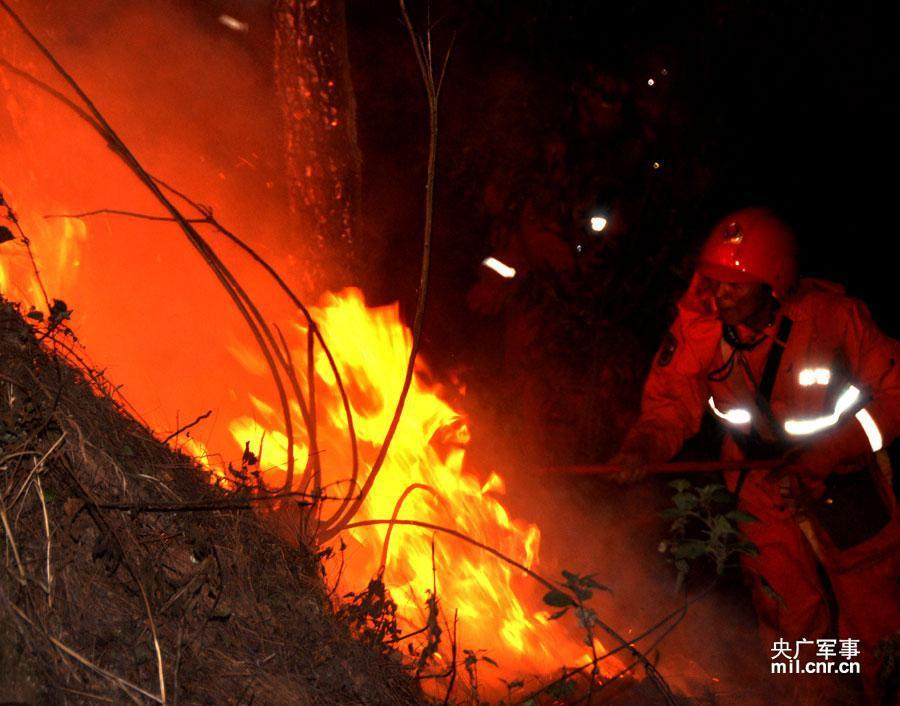fire: (204, 262, 595, 663)
